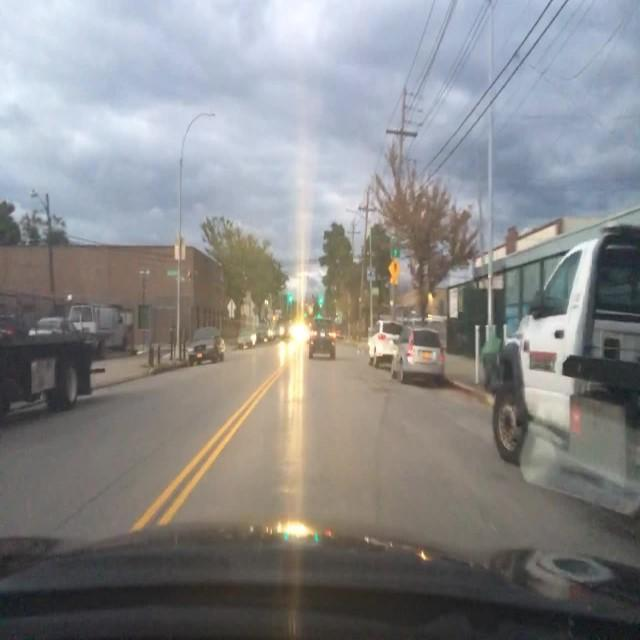normal: (441, 208, 640, 476), (390, 326, 447, 386), (364, 320, 404, 368), (190, 329, 226, 365), (308, 333, 336, 359)
